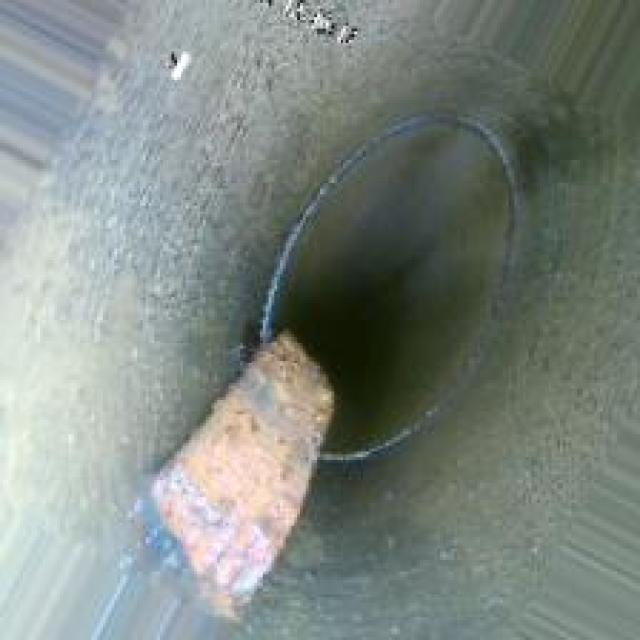stone: (140, 314, 334, 609)
